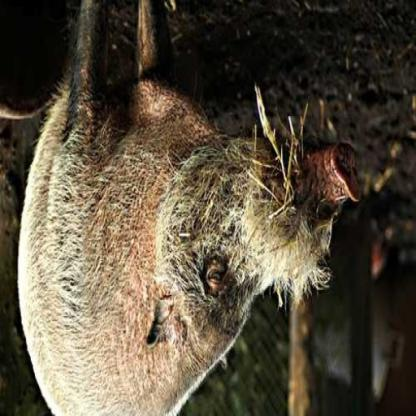boar: (26, 21, 372, 416)
